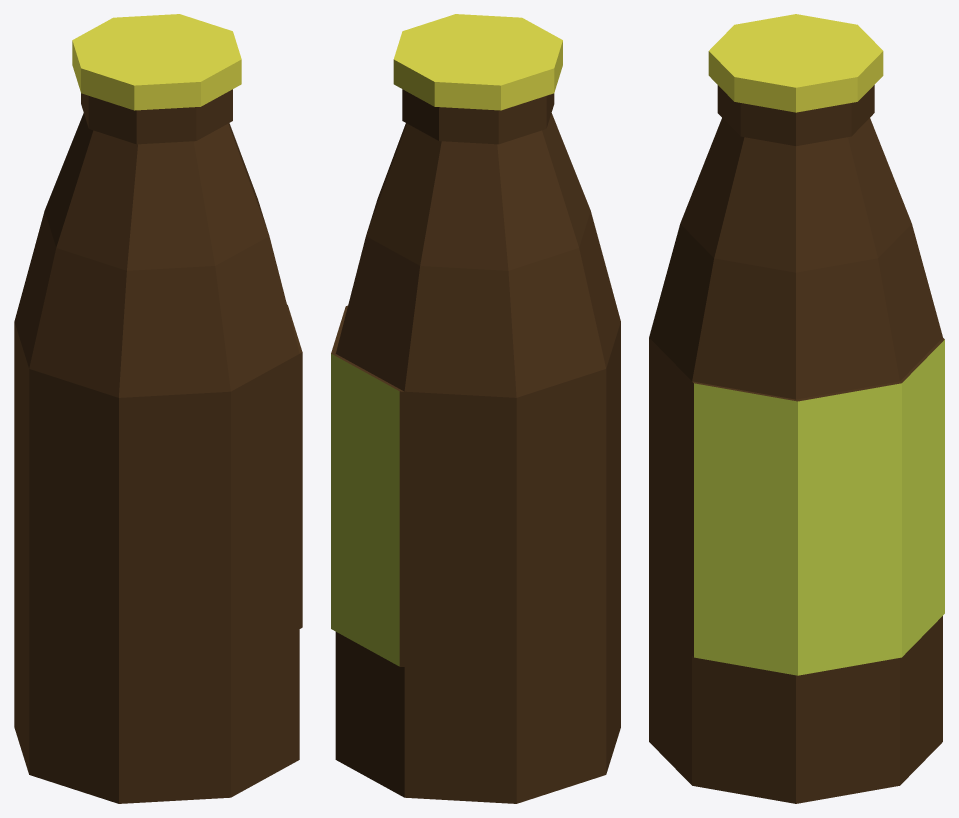
Rendered from Caguama_Victoria.fbx.
3 renders of one model, left to right at view 1: azimuth 30°, elevation 25°; view 2: azimuth 150°, elevation 25°; view 3: azimuth 270°, elevation 25°, orthographic.
Parts seen in each view (by area): view 1: Victoria; view 2: Victoria; view 3: Victoria.
Boxes of the visible parts, x1,y1,x2,y2 form: Victoria: [14, 14, 302, 803]; Victoria: [331, 14, 620, 803]; Victoria: [649, 14, 944, 803].
Size of the model in its own units: 3901 by 9967 by 3868.
